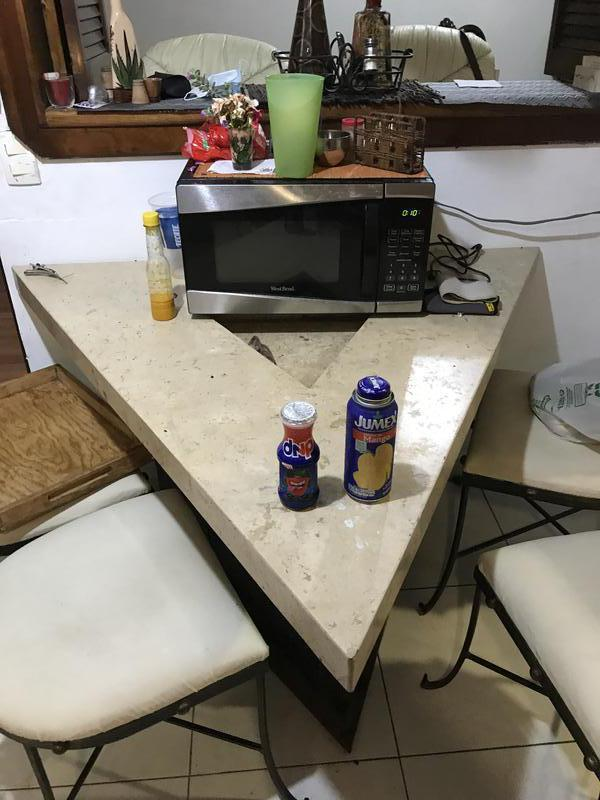danup: (275, 402, 322, 510)
jugo_jumex: (344, 374, 399, 504)
